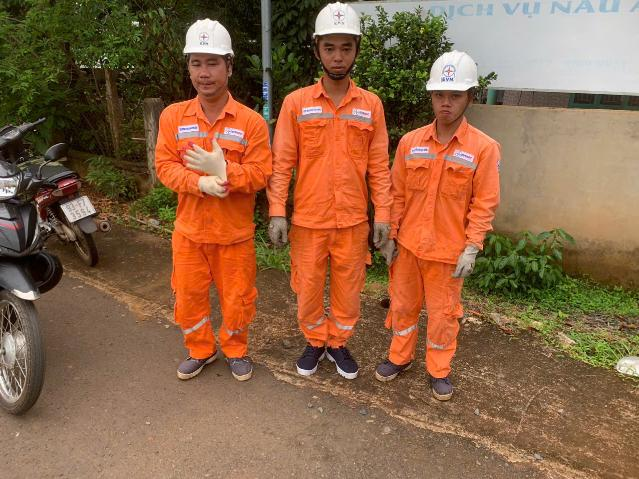gloves: (179, 135, 245, 183), (195, 175, 231, 209), (453, 239, 479, 285), (265, 211, 292, 252), (377, 229, 399, 271), (374, 215, 390, 252)
helmet: (406, 47, 507, 100), (152, 16, 262, 64), (304, 3, 386, 43)
shoes: (284, 323, 329, 385), (324, 335, 370, 389), (420, 350, 464, 406), (219, 340, 264, 388), (369, 351, 418, 387), (180, 342, 218, 388)
